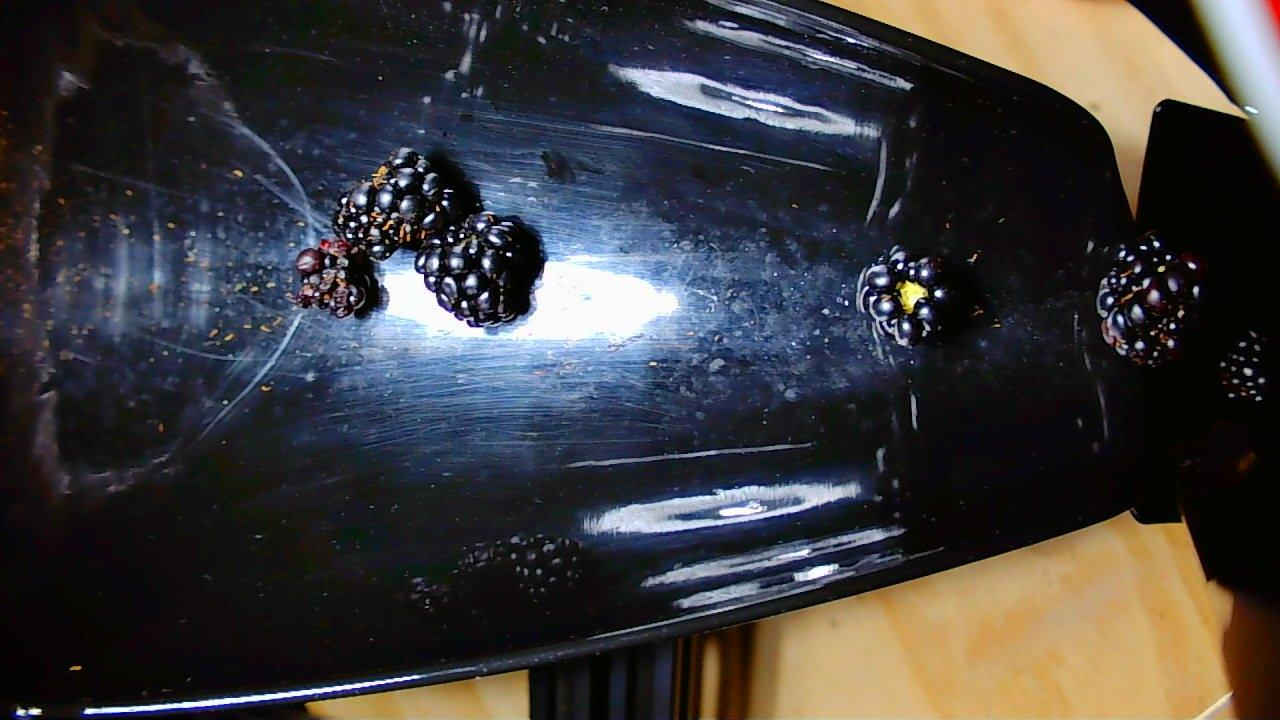berry: (334, 150, 465, 258), (1096, 236, 1198, 373), (422, 211, 538, 323), (856, 252, 944, 360), (294, 231, 382, 317), (1223, 328, 1278, 412)
